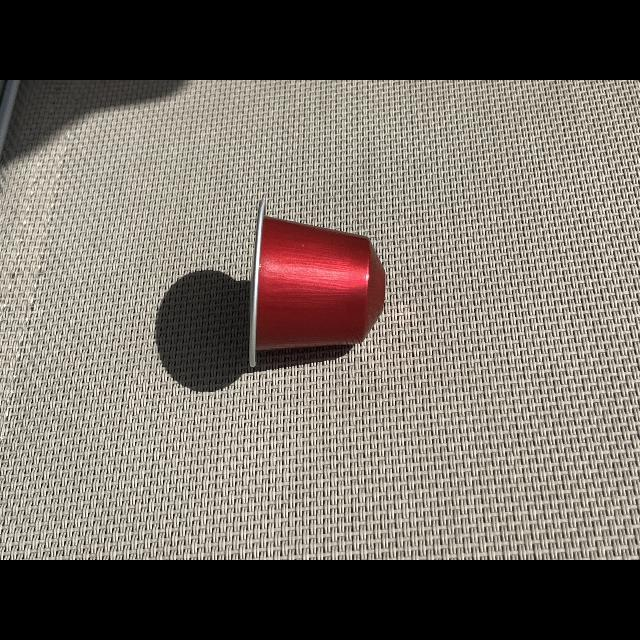intact_capsule: (237, 184, 396, 380)
